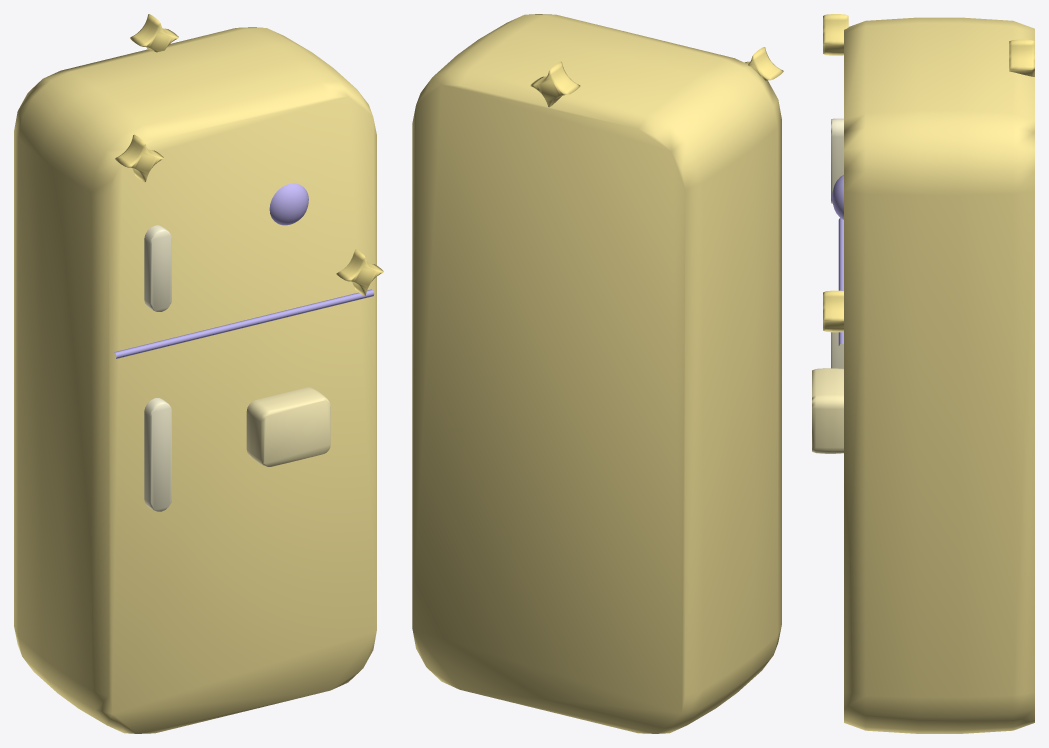
The model's file is decor_3_star.glb.
3 views of the same model, side by side, from view 1: azimuth 30°, elevation 25°; view 2: azimuth 150°, elevation 25°; view 3: azimuth 270°, elevation 25° (orthographic).
Visible parts, largest first — view 1: decor_3_star; view 2: decor_3_star; view 3: decor_3_star.
Boxes of the visible parts, box(x1,y1,x2,y2) form: decor_3_star: box(14, 14, 383, 733); decor_3_star: box(412, 14, 783, 733); decor_3_star: box(812, 14, 1034, 733).
Size of the model in its own units: 11.13 by 23.73 by 7.43.
